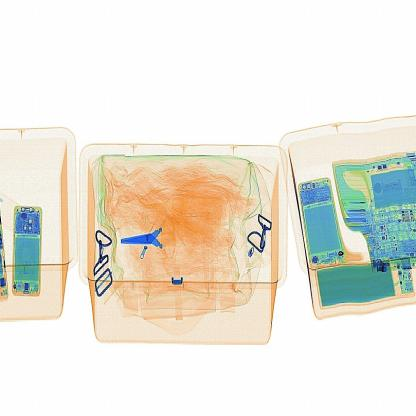gun: (114, 211, 187, 268)
